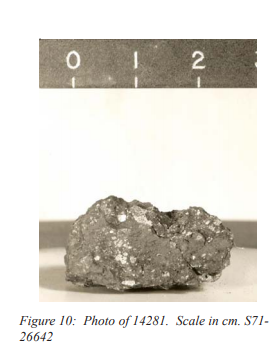Breccia: (69, 194, 225, 273)
